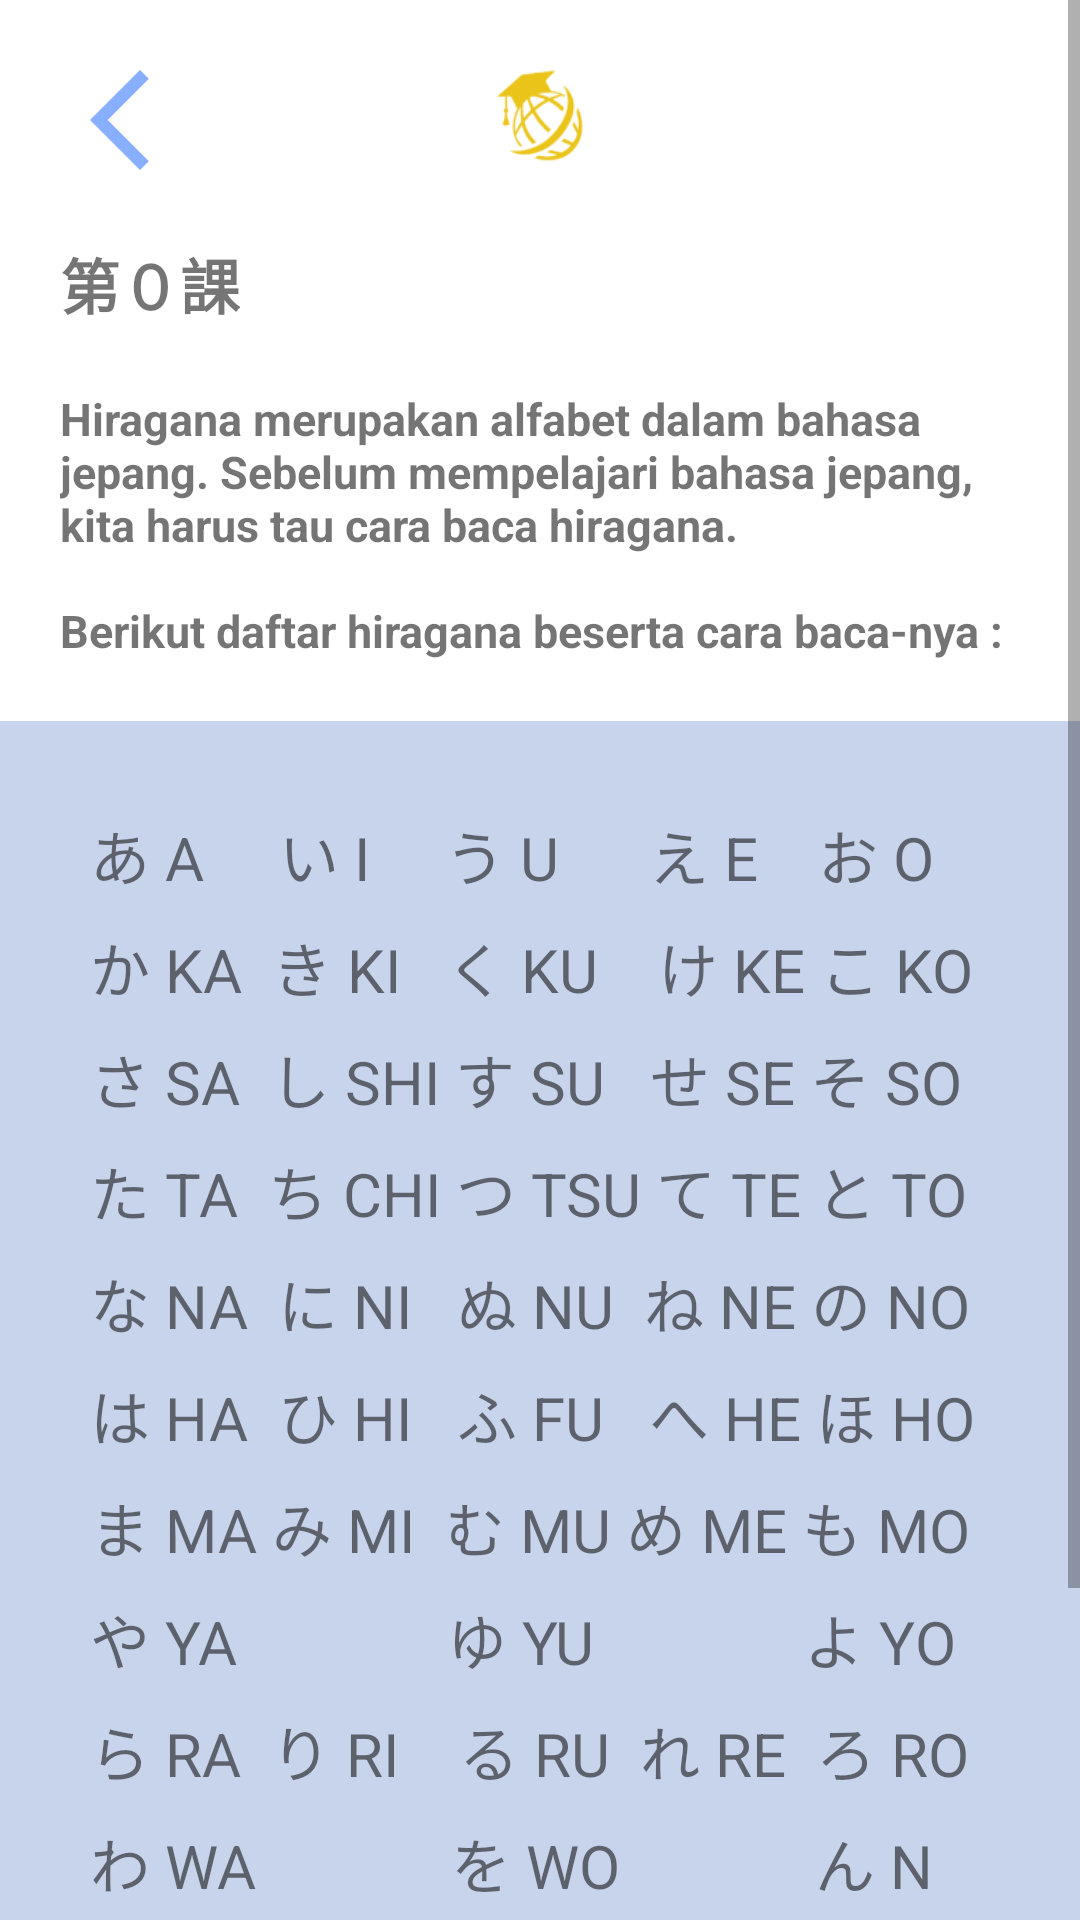

Screen size 1080×1920. Icon name, then its box in pixels as [x1, y1, x2, y2]:
arrow left: [90, 70, 149, 170]
